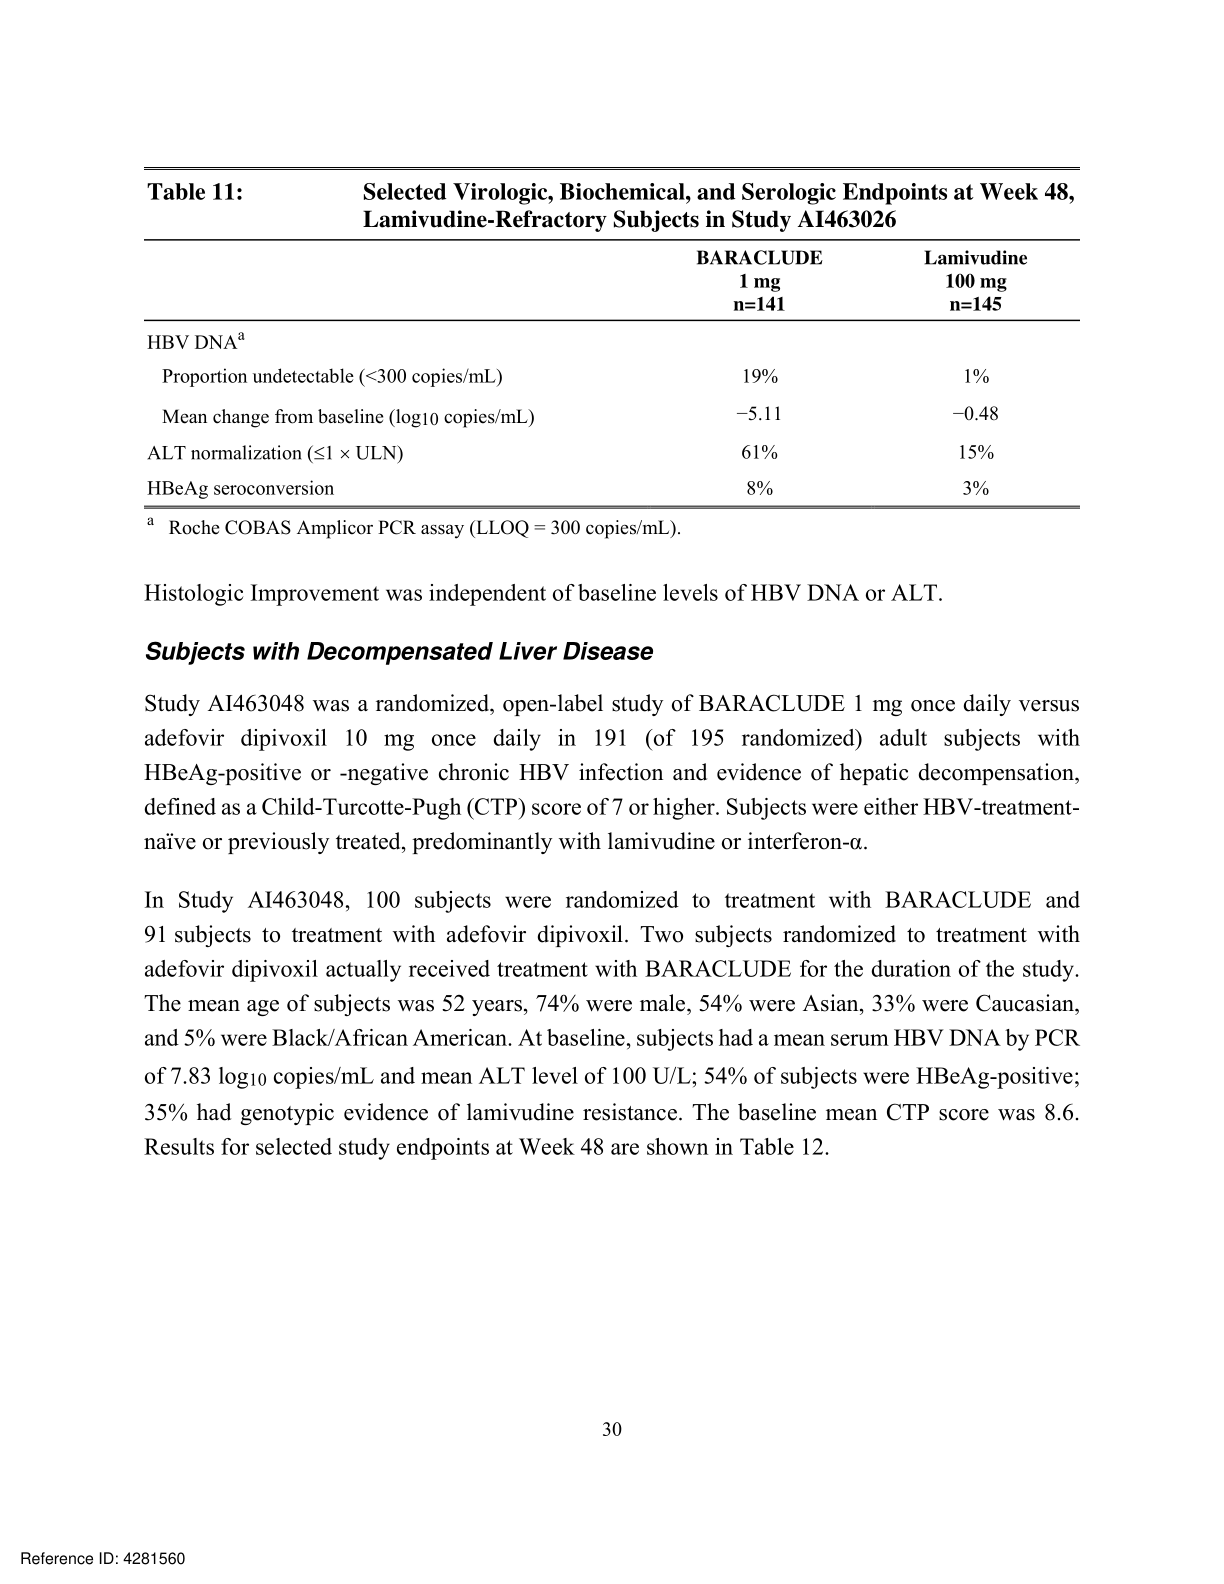partial_lined_merged_cells: (143, 165, 1081, 510)
